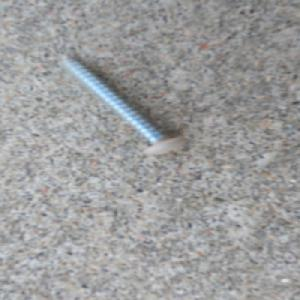Screw: (54, 51, 190, 157)
